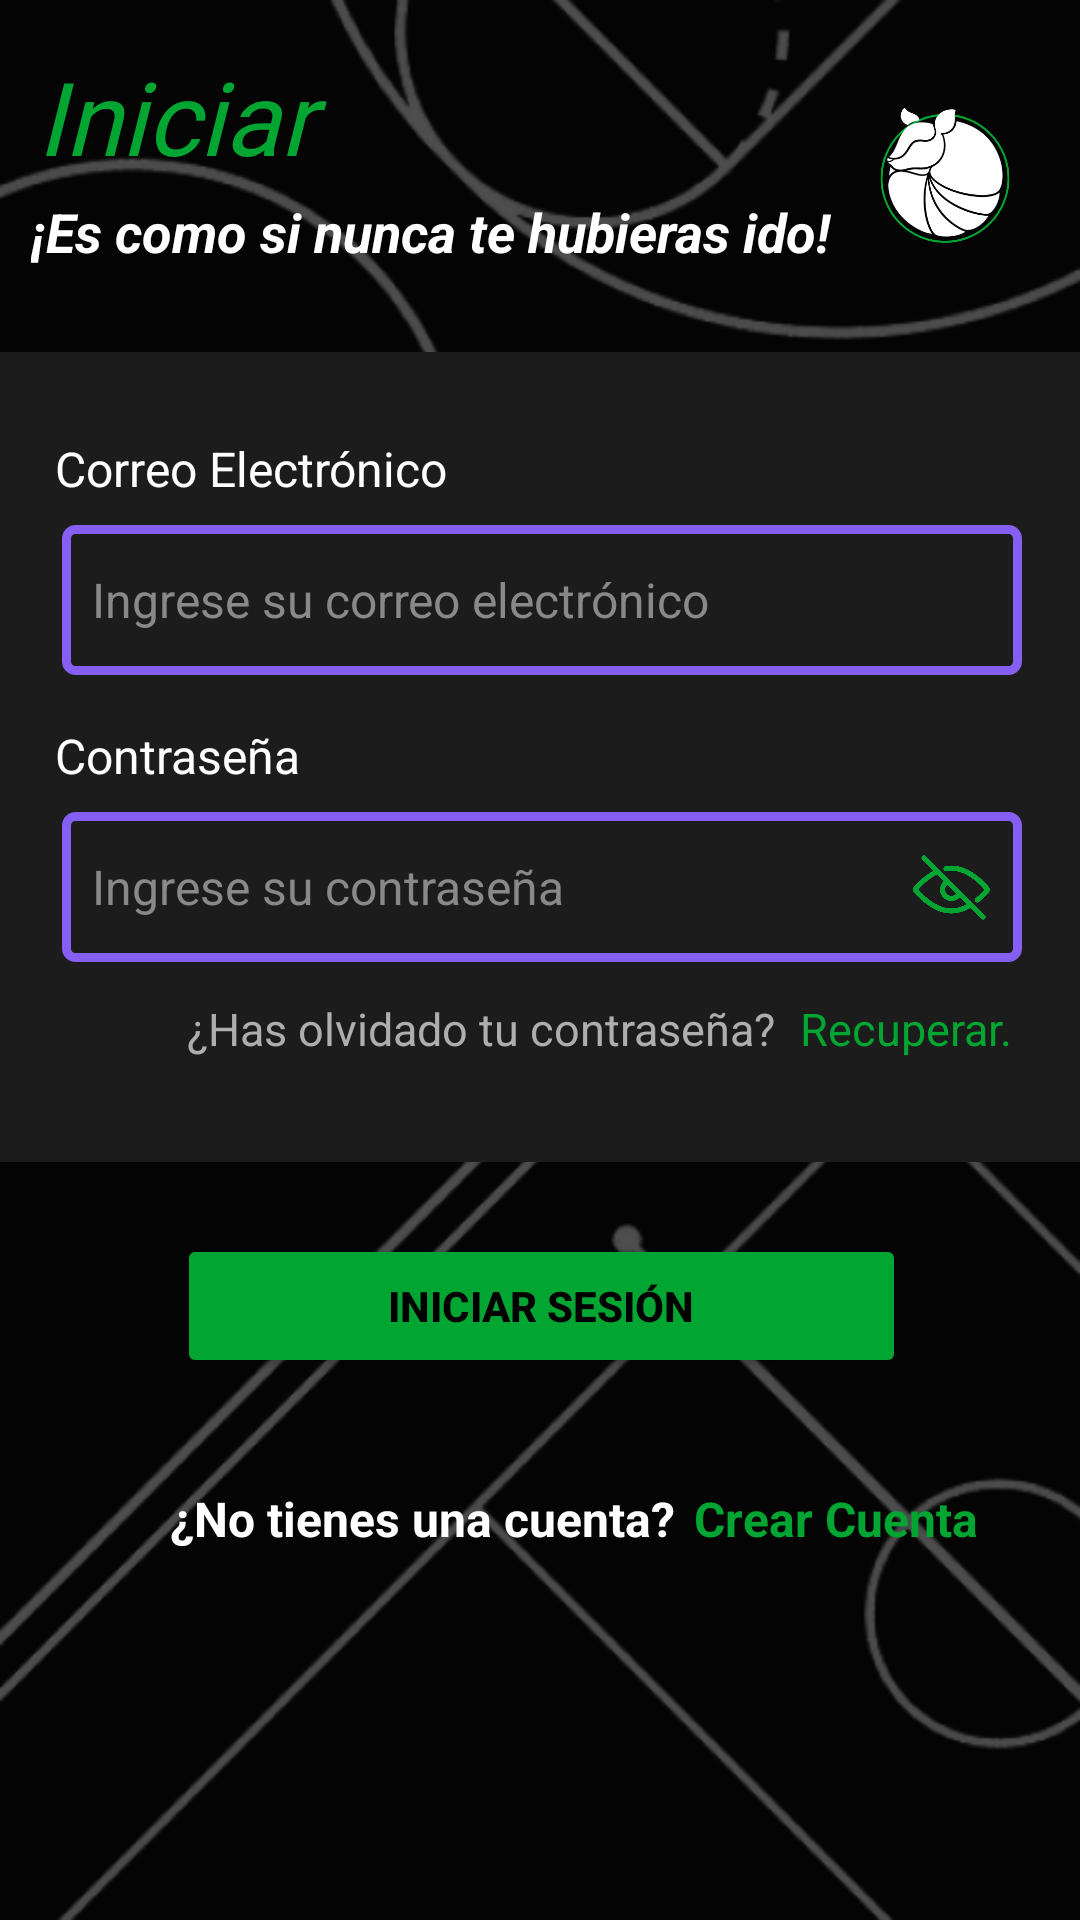

Screen size 1080w x 1920h. Icon name, then its center in pixels as point (x, y):
eye: point (951, 887)
